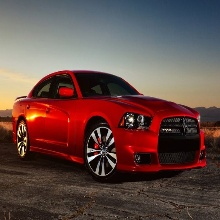no damage: (11, 70, 208, 182)
